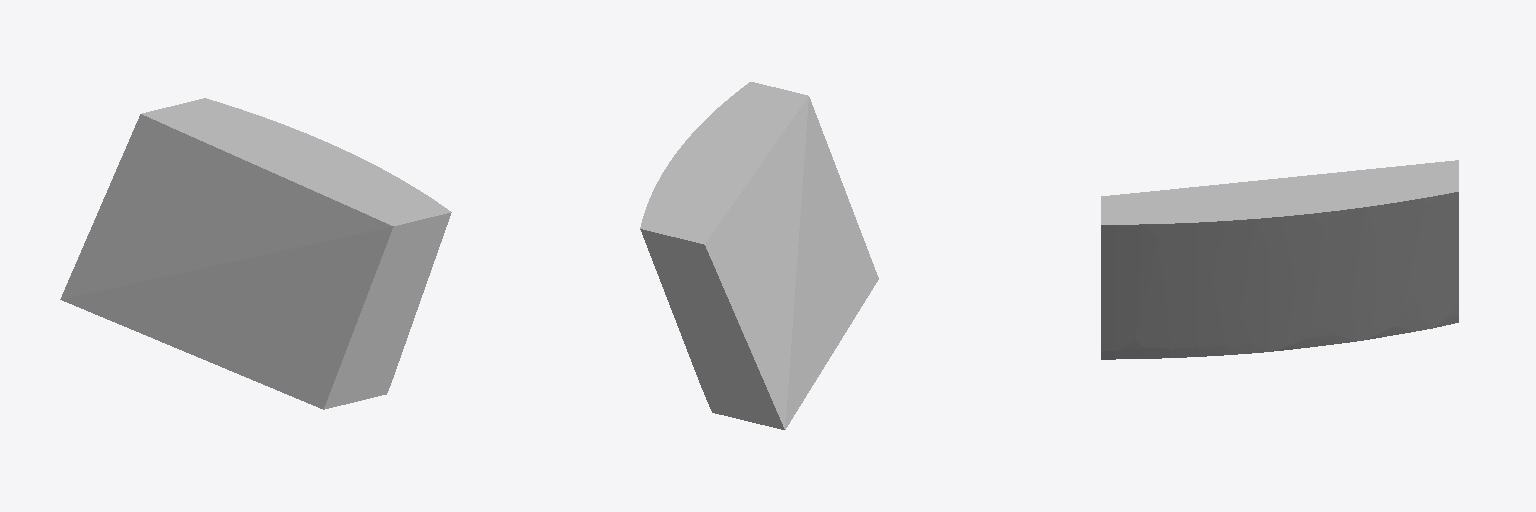
The model's file is skillet_collision_28.obj.
3 renders of one model, left to right at view 1: azimuth 30°, elevation 25°; view 2: azimuth 150°, elevation 25°; view 3: azimuth 270°, elevation 25°, orthographic.
Size of the model in its own units: 0.0287 by 0.0214 by 0.0417.